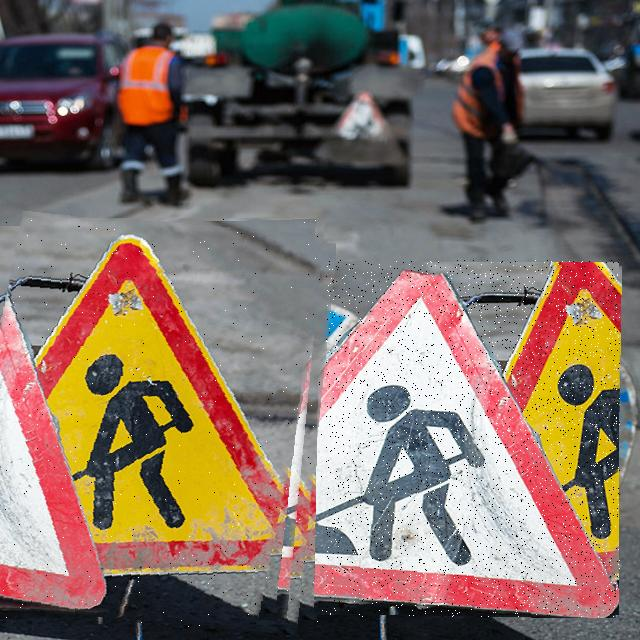roadwork: (158, 260, 620, 617), (0, 218, 326, 627)
